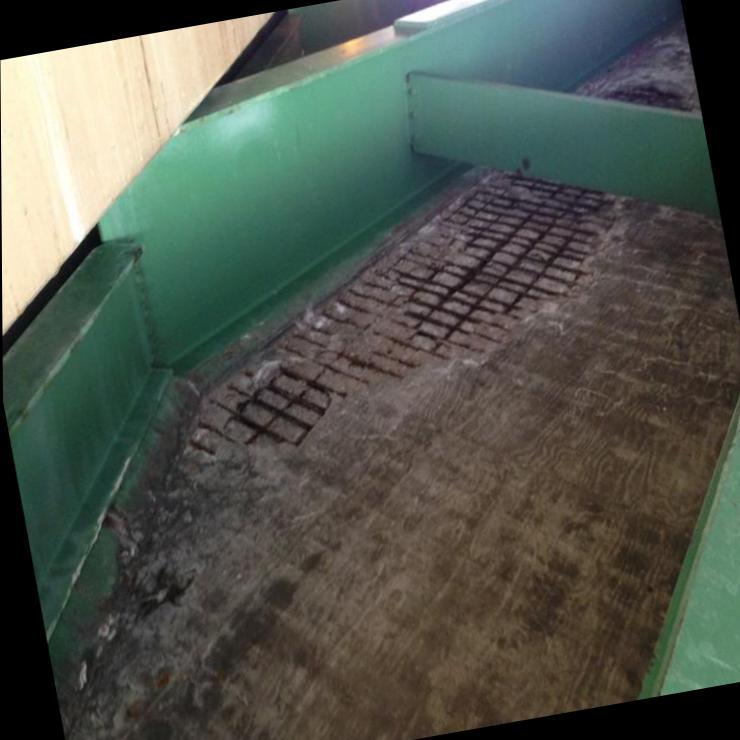damage: (184, 171, 633, 474)
